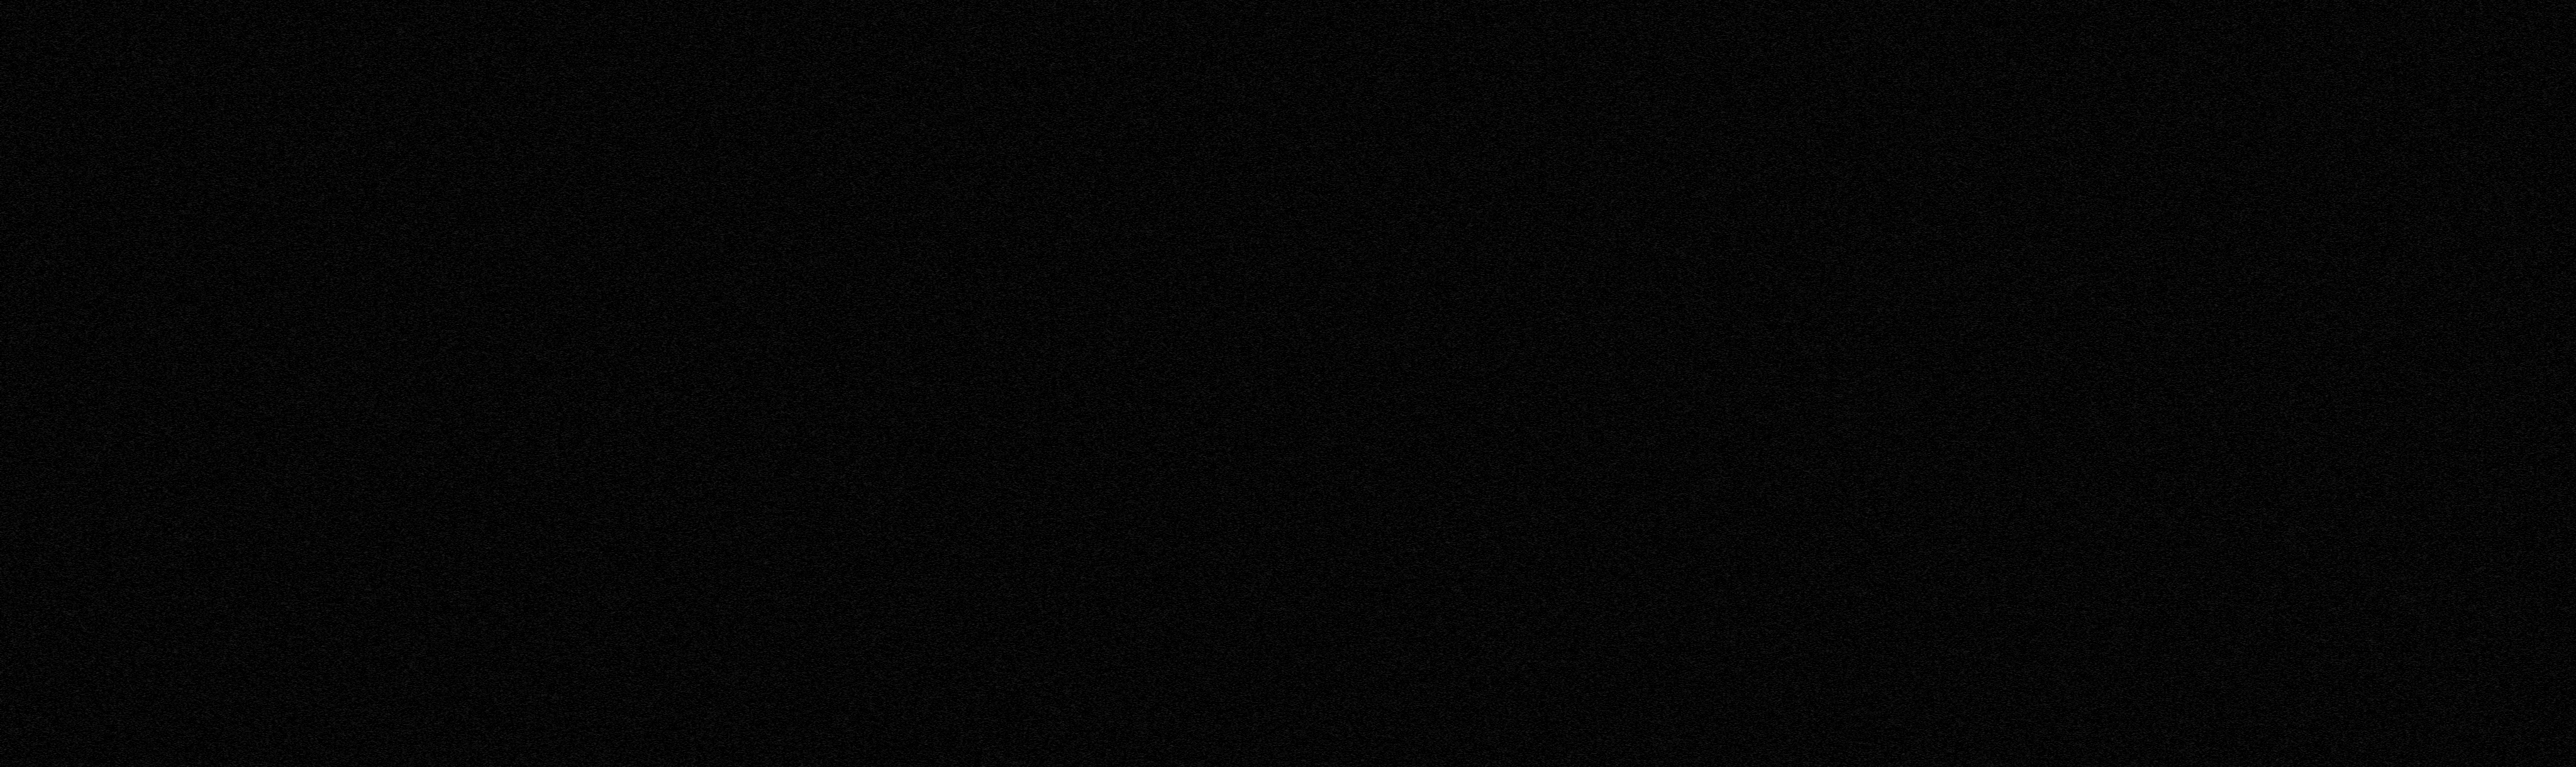wv_am: (2251, 0, 2254, 432), (2251, 494, 2254, 767), (2251, 466, 2254, 489), (2251, 439, 2254, 455)
wv_cw: (1873, 0, 1876, 767), (2173, 0, 2177, 767)
wv_usb: (2017, 84, 2022, 210), (2019, 370, 2022, 470), (2019, 698, 2022, 767), (2019, 595, 2022, 622), (2019, 672, 2022, 698), (2019, 327, 2022, 351), (2019, 530, 2022, 553), (2019, 508, 2022, 529), (2019, 486, 2022, 508), (2019, 264, 2022, 286), (2019, 636, 2022, 657), (2019, 241, 2022, 259), (2019, 553, 2022, 570), (2019, 212, 2022, 228), (2019, 299, 2022, 314), (2019, 657, 2022, 672), (2019, 572, 2022, 585), (2019, 351, 2022, 365), (2019, 228, 2022, 240), (2019, 476, 2022, 486), (2019, 315, 2022, 324), (2019, 286, 2022, 294), (2019, 39, 2021, 54), (2019, 624, 2022, 631), (2019, 470, 2022, 476), (2019, 585, 2022, 590), (2019, 28, 2021, 38), (2019, 8, 2021, 18), (2019, 591, 2022, 595), (2019, 366, 2022, 370), (2019, 296, 2022, 299), (2019, 259, 2022, 263), (2019, 72, 2021, 79), (2019, 20, 2021, 26), (2019, 54, 2021, 59), (2019, 632, 2022, 634), (2019, 325, 2022, 327), (2019, 62, 2021, 66), (2019, 80, 2021, 82), (2019, 67, 2021, 69), (2019, 59, 2021, 61)
wv_wbfm: (1252, 0, 1309, 767)
